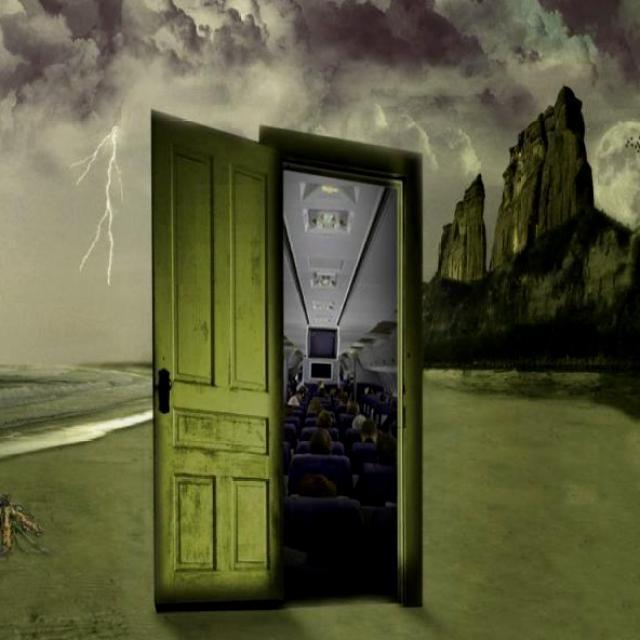door: (150, 108, 283, 610)
